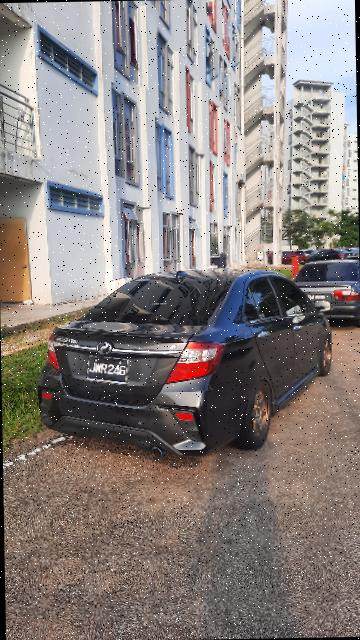License_Plate: (87, 355, 136, 390)
car: (33, 254, 342, 464), (287, 254, 360, 328)
